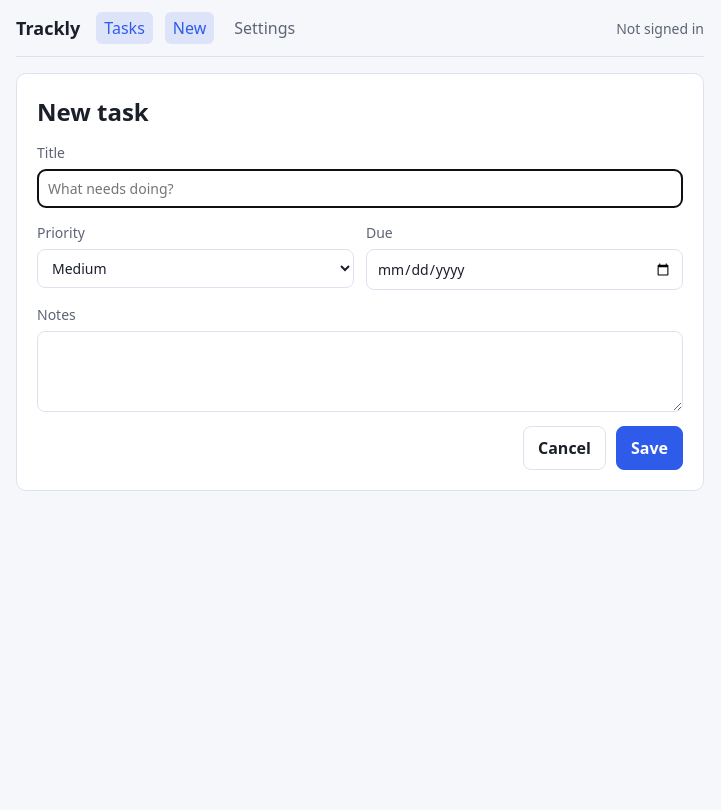
screens › adds a task through the form and shows the toast
Type "Record the demo" into the field with test id "title-input" at {"x": 360, "y": 188}, box [37,169,683,208]
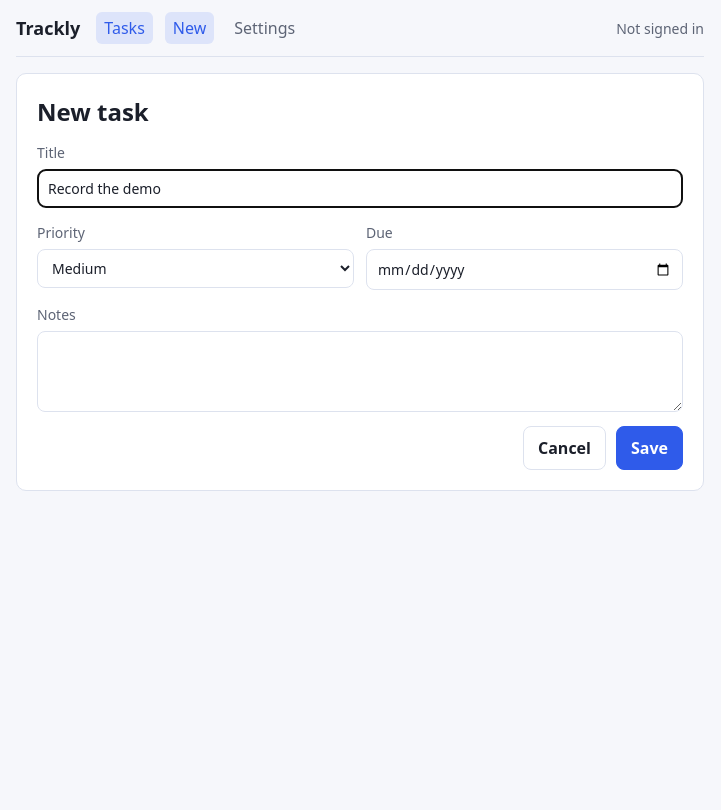
Select "High" in the dropdown with test id "priority-select" at {"x": 196, "y": 268}, box [37,249,354,288]
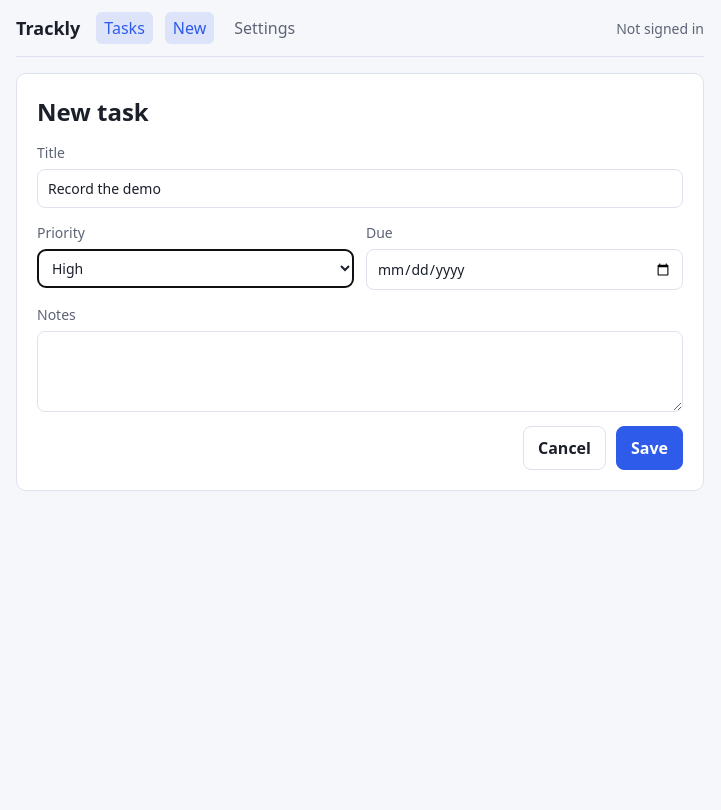
Click the button with test id "save-button" at {"x": 650, "y": 448}, box [616,426,683,470]
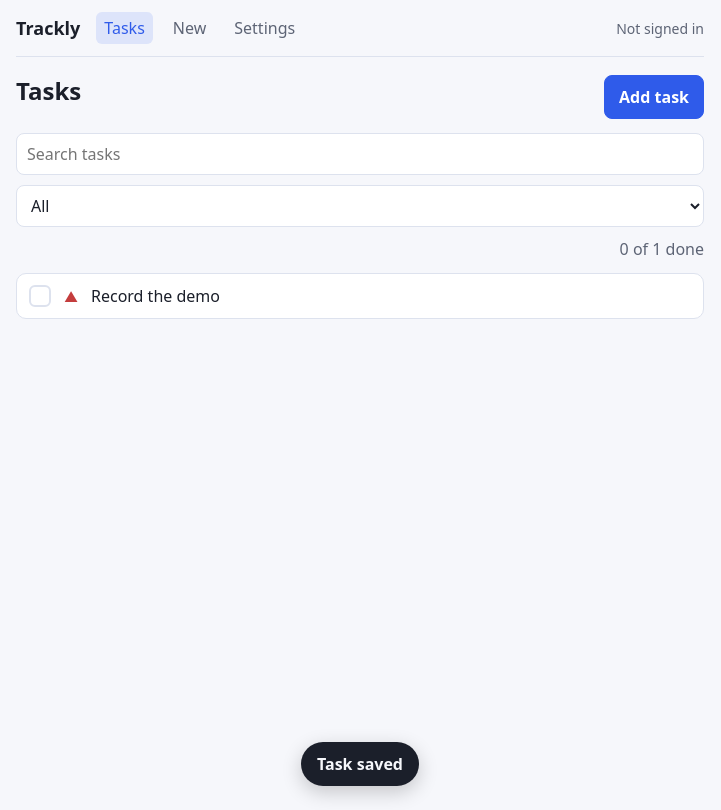
Expected: the message with test id "toast" reads "Task saved", [317,753,403,775]
